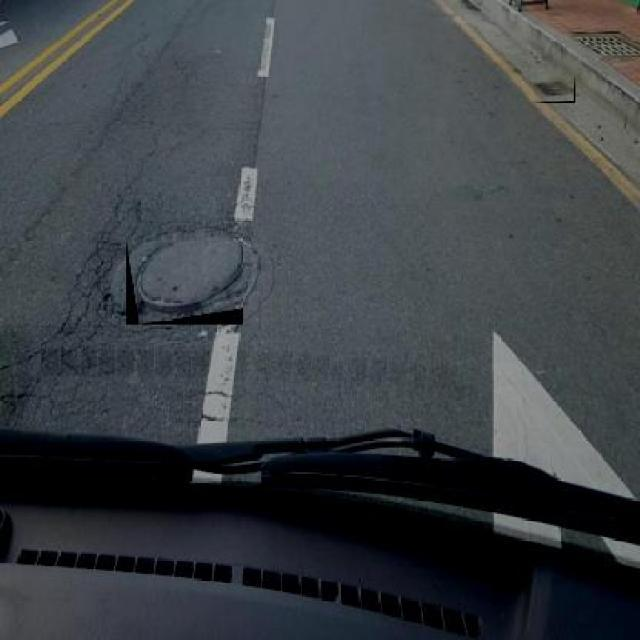Manhole: (127, 242, 244, 324), (573, 25, 639, 57), (534, 75, 576, 103)
Pothole: (0, 384, 34, 412)
